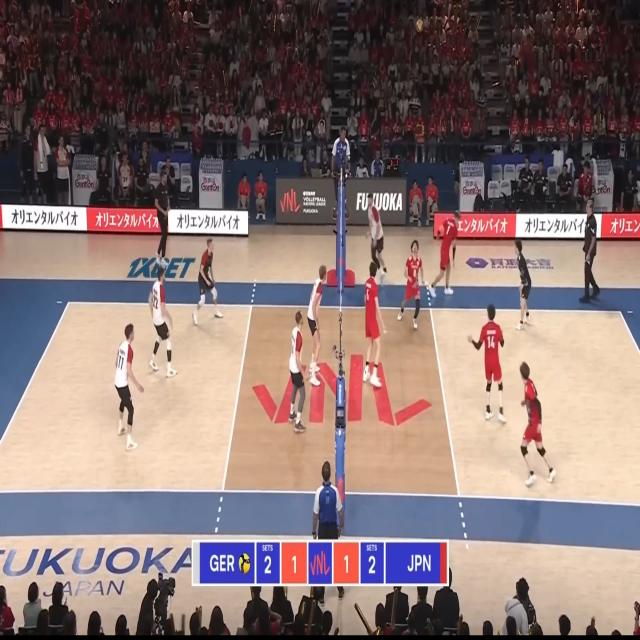ball: (417, 19, 423, 32)
